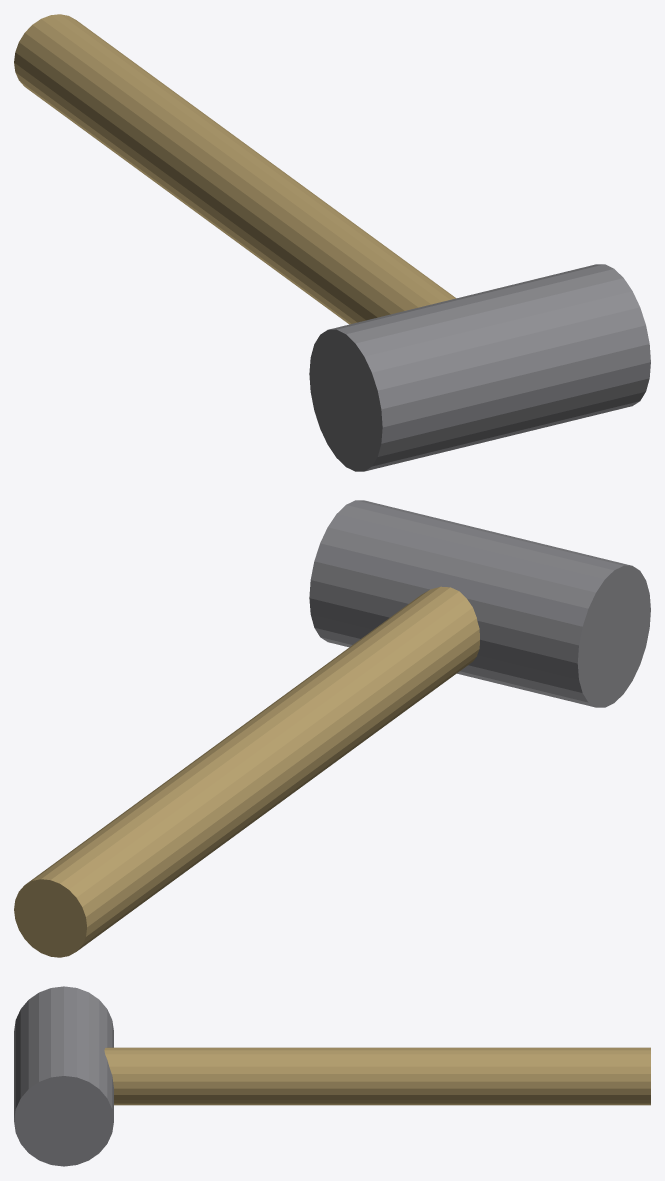
Rendered from hammer.glb.
The picture shows the model from 3 angles, top to bottom: view 1: azimuth 30°, elevation 25°; view 2: azimuth 150°, elevation 25°; view 3: azimuth 270°, elevation 25°; orthographic projection. The views are drawn at different scales.
Visible parts, largest first — view 1: world; view 2: world; view 3: world.
Part boxes in pixels (x1,y1,x2,y2): world: (14, 14, 650, 471); world: (14, 500, 650, 957); world: (14, 986, 650, 1166).
Size of the model in its own units: 0.11 by 0.052 by 0.331.
